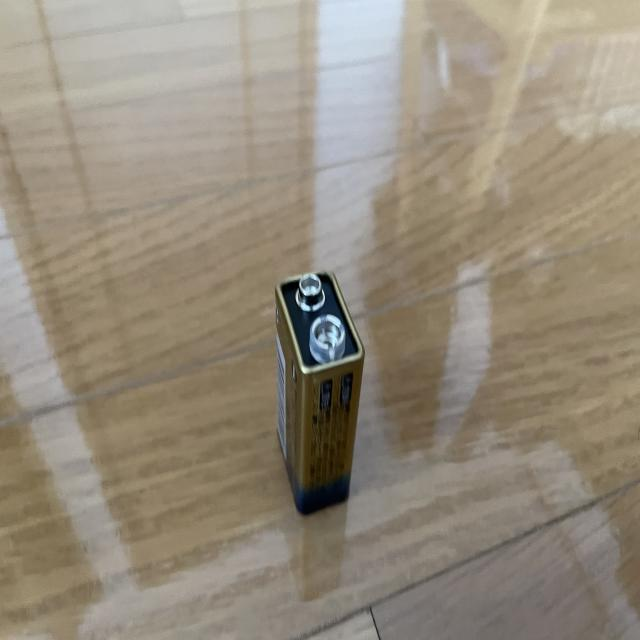9V: (274, 266, 366, 519)
